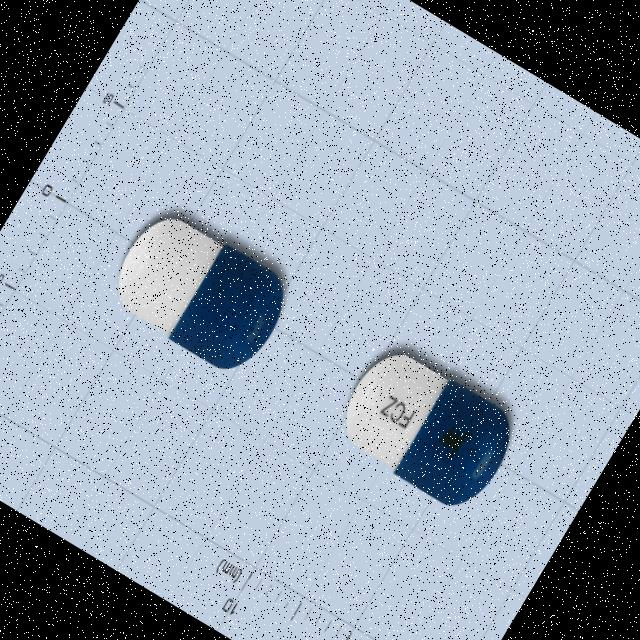Oneflu Cap: (325, 337, 526, 520), (101, 201, 300, 383)
